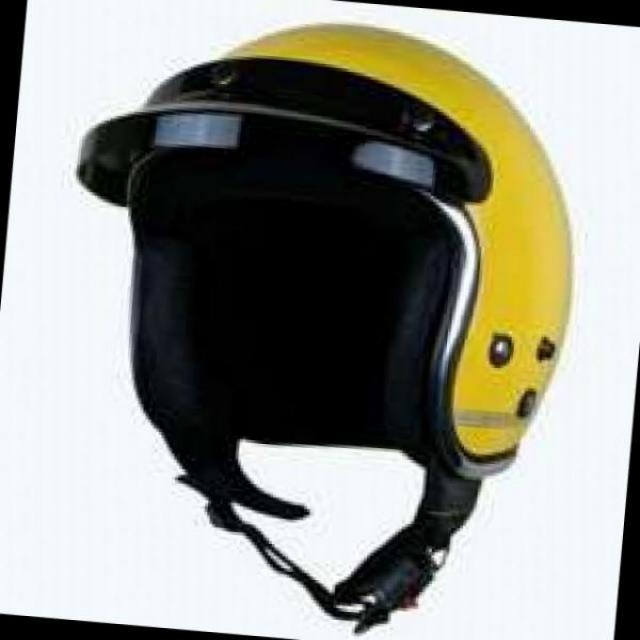Helmet: (81, 22, 582, 634)
